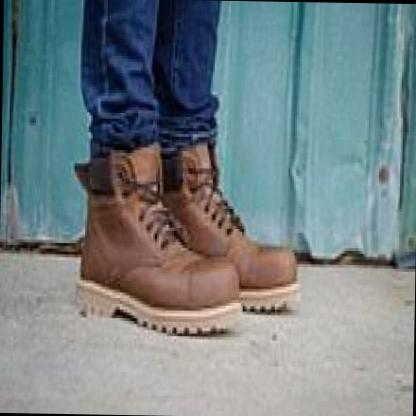safety-shoe: (60, 154, 237, 351), (167, 133, 322, 312)
